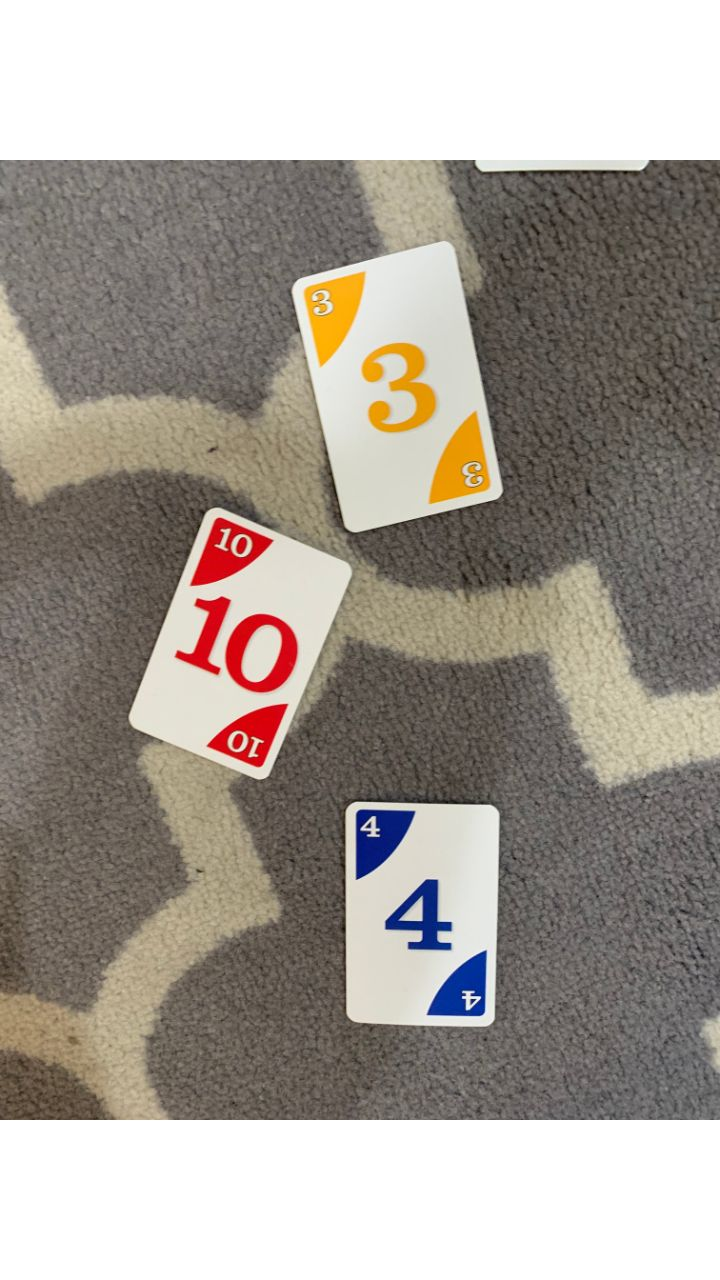four: (343, 798, 501, 1028)
ten: (128, 508, 353, 783)
three: (292, 240, 502, 533)
